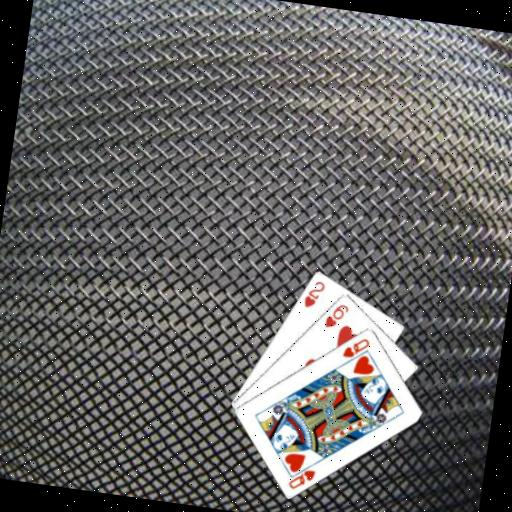2H: (300, 276, 328, 311)
6H: (322, 299, 351, 331)
QH: (285, 456, 318, 493), (339, 332, 372, 361)
